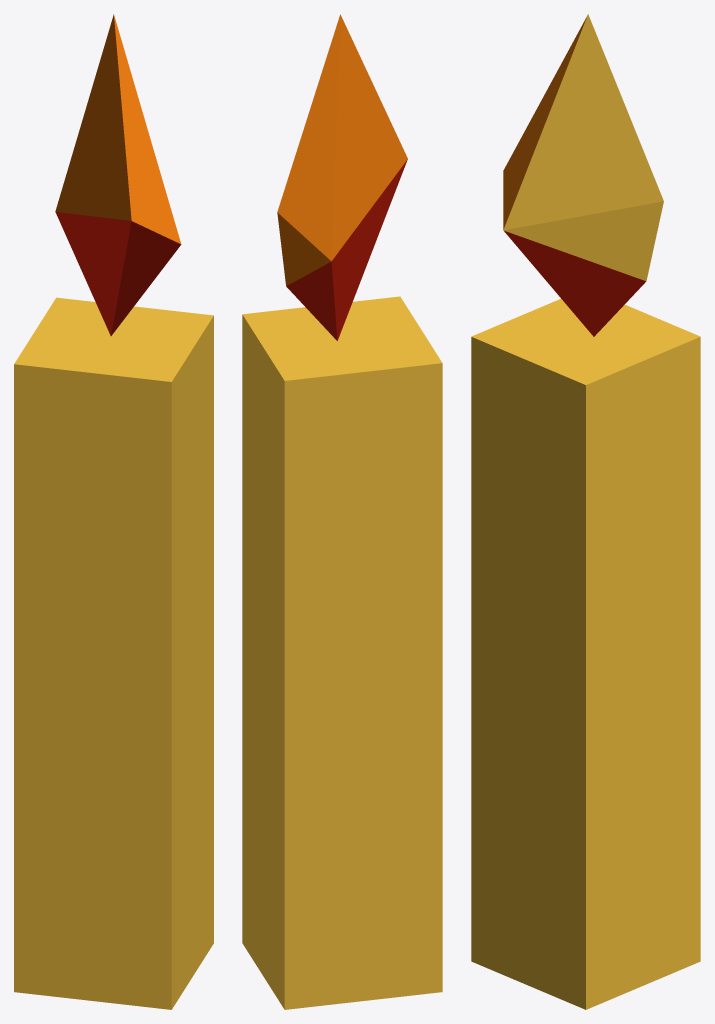
3 renders of one model, left to right at view 1: azimuth 30°, elevation 25°; view 2: azimuth 150°, elevation 25°; view 3: azimuth 270°, elevation 25°, orthographic.
Parts seen in each view (by area): view 1: Cylinder025; view 2: Cylinder025; view 3: Cylinder025.
Boxes of the visible parts, <box> form: Cylinder025: <box>14,14,213,1009</box>; Cylinder025: <box>242,14,442,1009</box>; Cylinder025: <box>471,14,700,1009</box>.
Size of the model in its own units: 0.0765 by 0.3483 by 0.0765.
